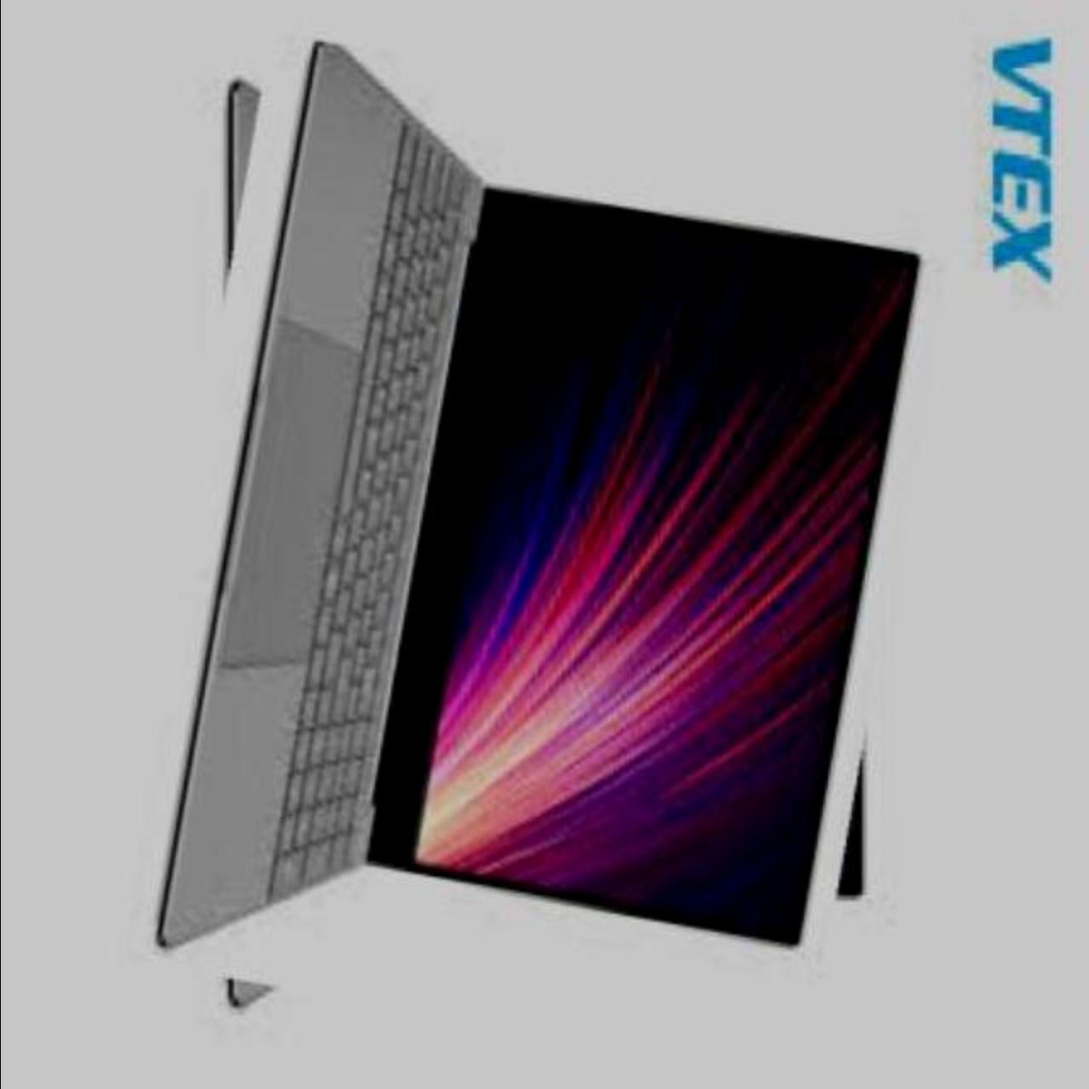laptop: (145, 60, 927, 1052)
